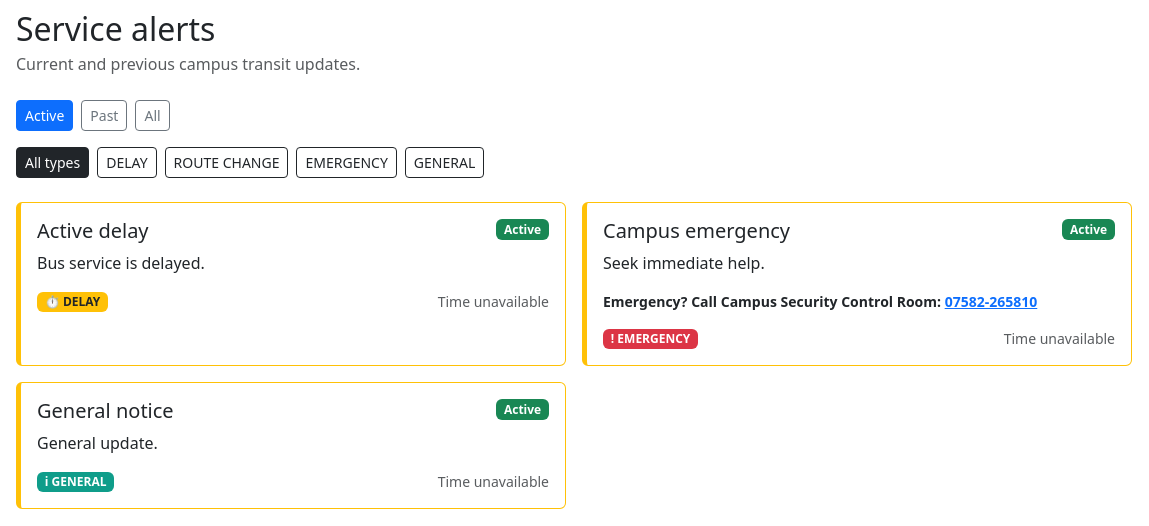
Scenario: AlertsPage › defaults to active alerts and filters by status tab and type chip
The width and height of the screenshot is (1149, 526).
Expected: the heading "Active delay" is shown, [37,219,149,243]
Expected: the text "Past route update" is not shown
Click the tab "Past" at (104, 116), box [81,100,127,131]
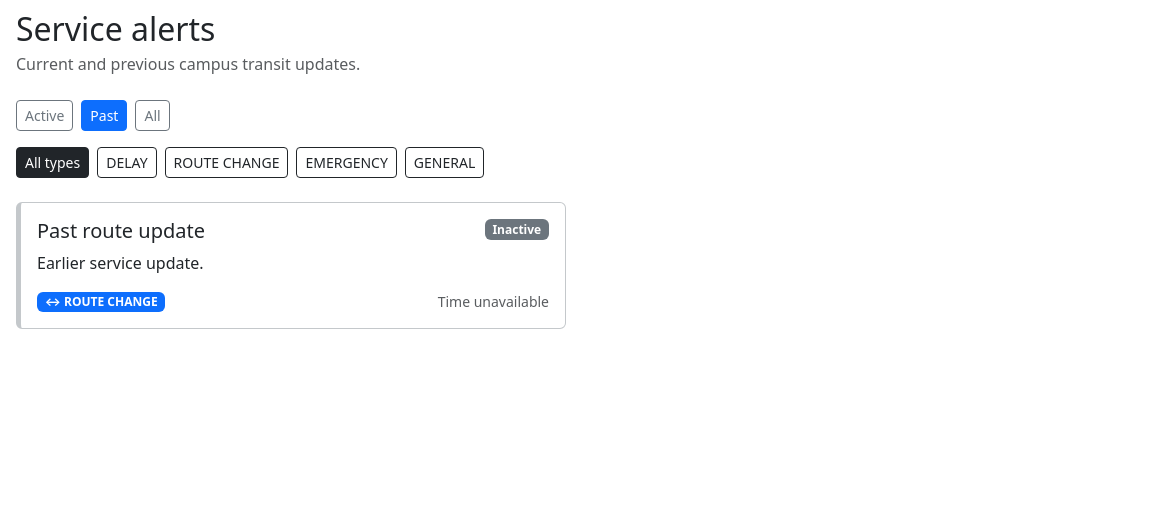
Now the heading "Past route update" is shown, box [37,219,205,243]
Now the heading "Active delay" is gone
Click the tab "All" at (152, 116), box [135,100,170,131]
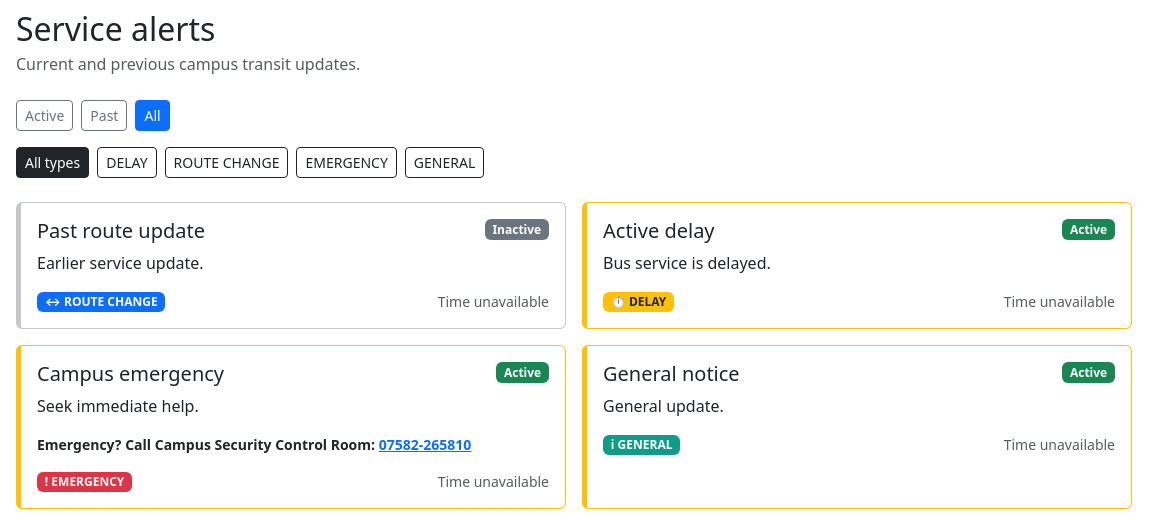
Click the button "DELAY" at (127, 163), box [97,147,157,178]
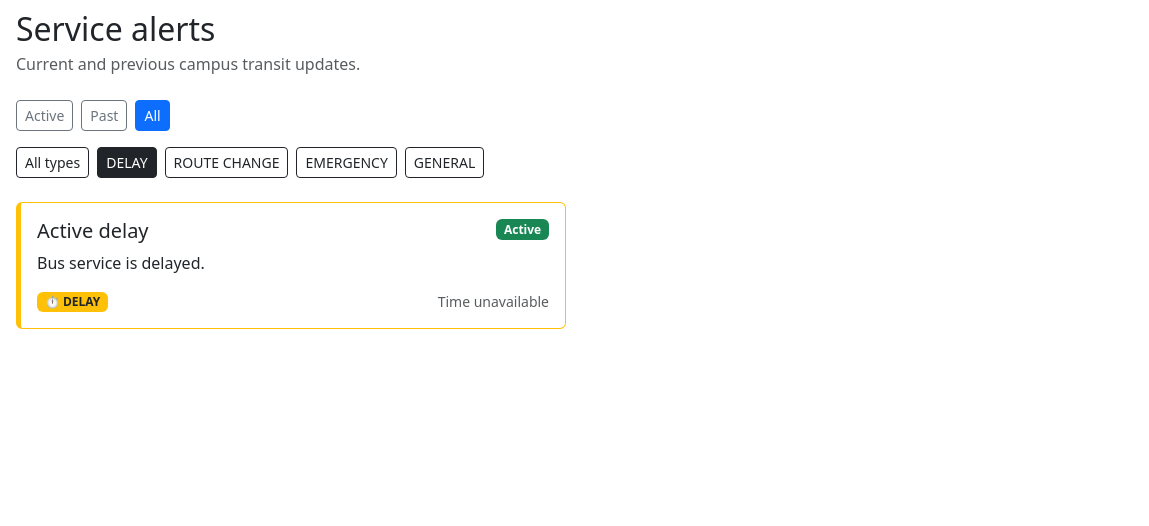
Now the heading "Active delay" is shown, box [37,219,149,243]
Now the heading "Past route update" is gone
Now the heading "Campus emergency" is gone
